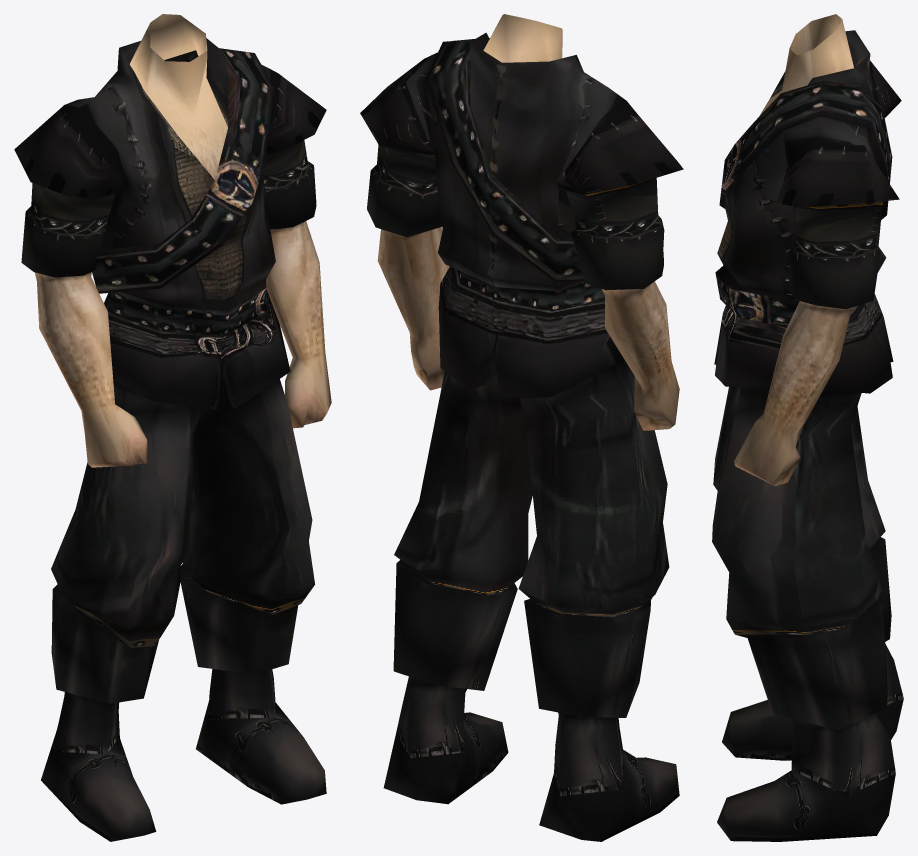
Rendered from KM_PIR_L.glb.
3 renders of one model, left to right at view 1: azimuth 30°, elevation 25°; view 2: azimuth 150°, elevation 25°; view 3: azimuth 270°, elevation 25°, orthographic. The views are drawn at different scales.
Visible parts, largest first — view 1: KM_PIR_L; view 2: KM_PIR_L; view 3: KM_PIR_L.
Part boxes in pixels (x1,y1,x2,y2): KM_PIR_L: (14,14,331,841); KM_PIR_L: (360,14,683,841); KM_PIR_L: (712,14,903,841).
Bounding box in the file's own units: 0.6735 × 1.69 × 0.3824.
2 materials, 2 textured.
